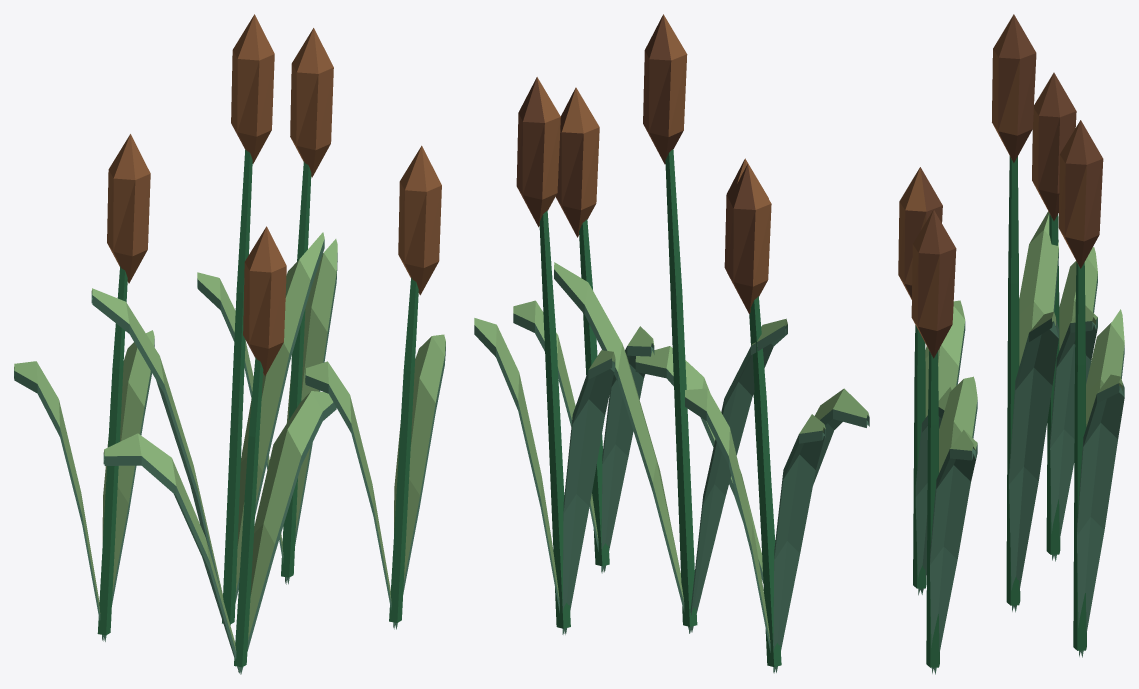
File: JuncoPantano.fbx
3 renders of one model, left to right at view 1: azimuth 30°, elevation 25°; view 2: azimuth 150°, elevation 25°; view 3: azimuth 270°, elevation 25°, orthographic.
Parts seen in each view (by area): view 1: JuncoPantano_Folha_4, JuncoPantano_Folha_3, JuncoPantano_Folha_1, JuncoPantano_Folha_5; view 2: JuncoPantano_Folha_5, JuncoPantano_Folha_1, JuncoPantano_Folha_4, JuncoPantano_Folha_2, JuncoPantano_Folha_3; view 3: JuncoPantano_Folha_5, JuncoPantano_Folha_2, JuncoPantano_Folha_1, JuncoPantano_Folha_4, JuncoPantano_Folha_3.
Part boxes in pixels (bbox=[...]): JuncoPantano_Folha_4: bbox=[14, 232, 445, 651]; JuncoPantano_Folha_3: bbox=[107, 14, 441, 375]; JuncoPantano_Folha_1: bbox=[97, 149, 418, 667]; JuncoPantano_Folha_5: bbox=[14, 239, 445, 674]; JuncoPantano_Folha_5: bbox=[474, 269, 869, 673]; JuncoPantano_Folha_1: bbox=[539, 149, 781, 666]; JuncoPantano_Folha_4: bbox=[474, 262, 869, 641]; JuncoPantano_Folha_2: bbox=[516, 14, 755, 313]; JuncoPantano_Folha_3: bbox=[537, 14, 771, 313]; JuncoPantano_Folha_5: bbox=[915, 249, 1124, 674]; JuncoPantano_Folha_2: bbox=[904, 14, 1103, 358]; JuncoPantano_Folha_1: bbox=[913, 156, 1086, 667]; JuncoPantano_Folha_4: bbox=[925, 211, 1124, 472]; JuncoPantano_Folha_3: bbox=[898, 14, 1086, 351].
Bounding box in the file's own units: 321 × 505 × 169.
